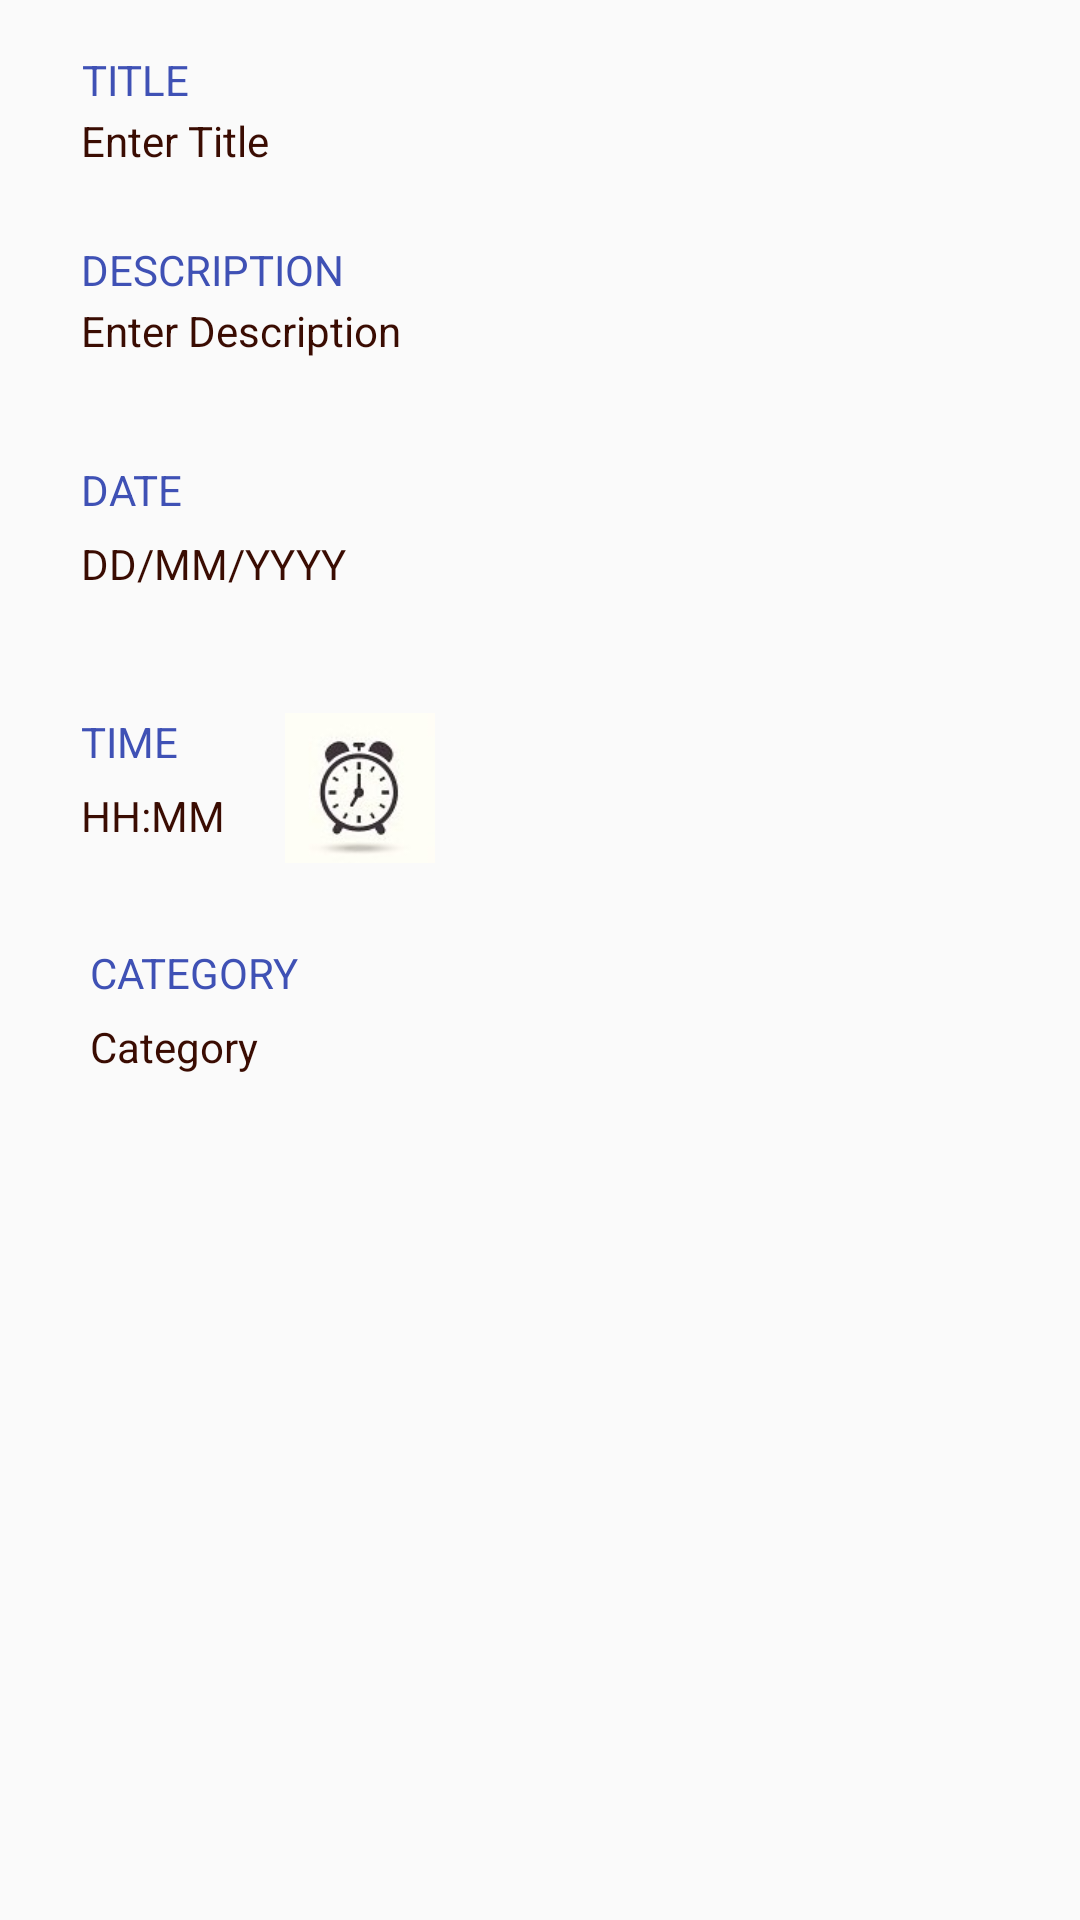

Where to tap for icons on this 1080px×1920px app screen, as point (x, y):
clock: point (358, 796)
